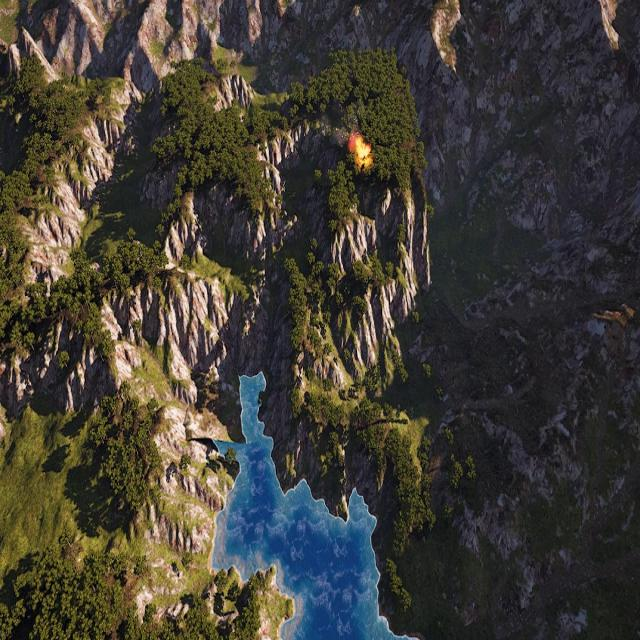fire: (350, 134, 371, 166)
